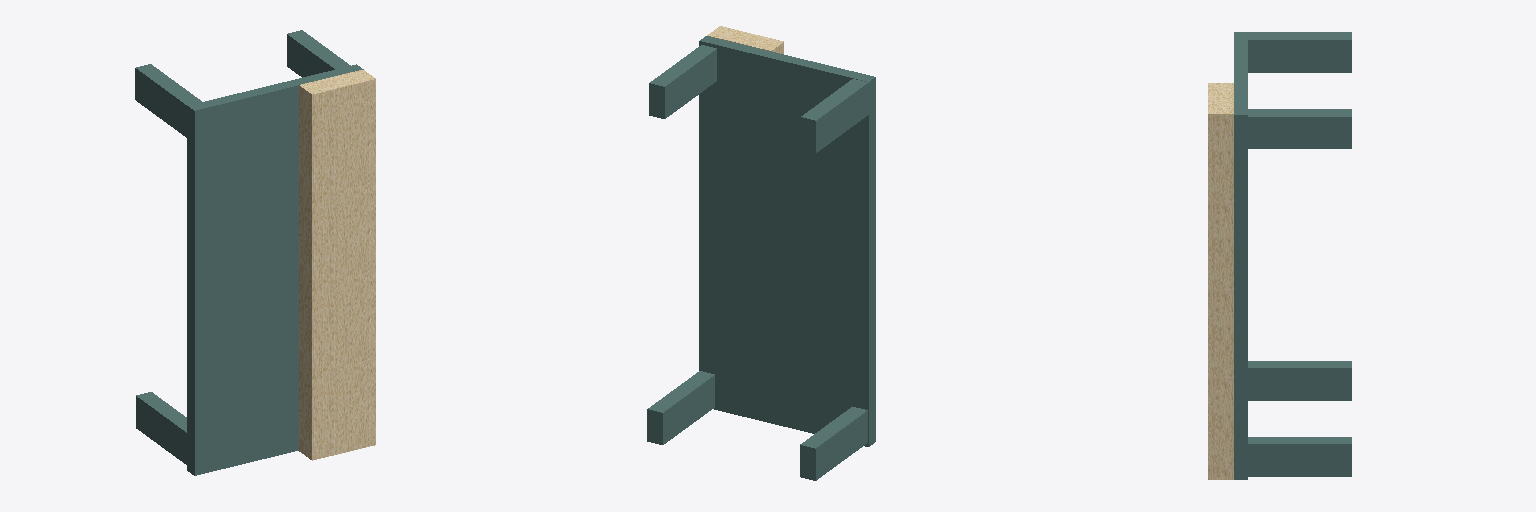
3 renders of one model, left to right at view 1: azimuth 30°, elevation 25°; view 2: azimuth 150°, elevation 25°; view 3: azimuth 270°, elevation 25°, orthographic.
Visible parts, largest first — view 1: Cube.002_Cube.001, Cube; view 2: Cube.002_Cube.001, Cube; view 3: Cube.002_Cube.001, Cube.
Boxes of the visible parts, x1,y1,x2,y2 form: Cube.002_Cube.001: [135, 30, 363, 475]; Cube: [299, 70, 375, 460]; Cube.002_Cube.001: [647, 36, 875, 480]; Cube: [707, 26, 783, 53]; Cube.002_Cube.001: [1234, 32, 1351, 479]; Cube: [1208, 83, 1233, 479].
Bounding box in the file's own units: 0.6929 × 1.43 × 0.5137.
Materials: 2 (2 with a texture image).